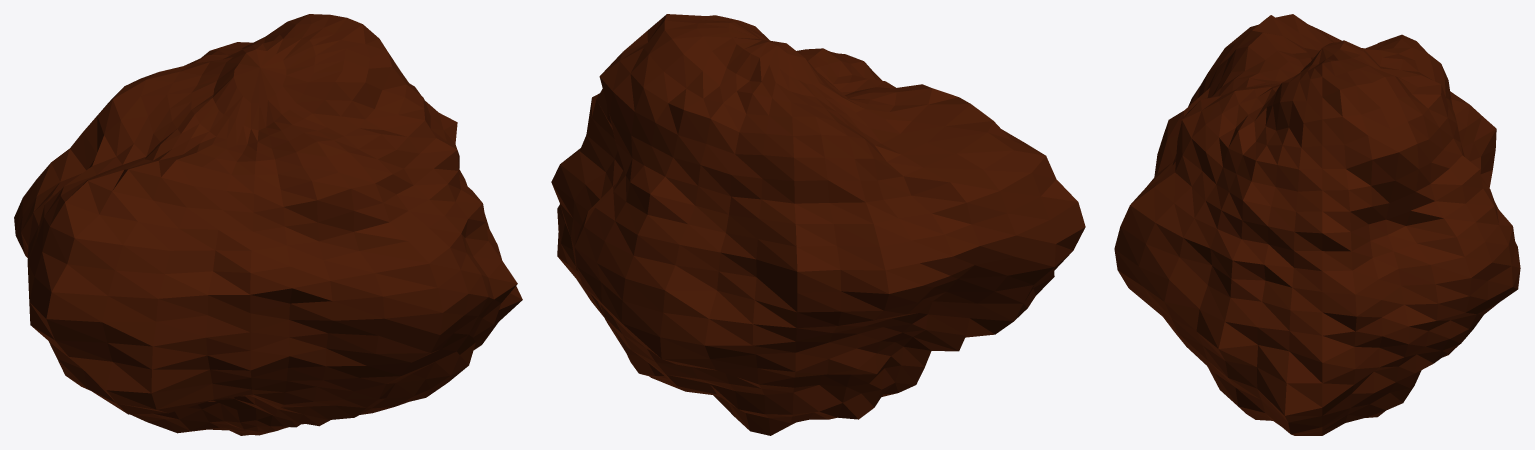
The model's file is asteroid2.obj.
The picture shows the model from 3 angles, left to right: view 1: azimuth 30°, elevation 25°; view 2: azimuth 150°, elevation 25°; view 3: azimuth 270°, elevation 25°; orthographic projection. The views are drawn at different scales.
Parts seen in each view (by area): view 1: Sphere_Sphere.001; view 2: Sphere_Sphere.001; view 3: Sphere_Sphere.001.
Boxes of the visible parts, x1=… form: Sphere_Sphere.001: x1=14, y1=14, x2=522, y2=435; Sphere_Sphere.001: x1=551, y1=14, x2=1085, y2=435; Sphere_Sphere.001: x1=1114, y1=14, x2=1520, y2=435.
Size of the model in its own units: 5.79 by 4.18 by 4.36.
Materials: 1 (1 with a texture image).
